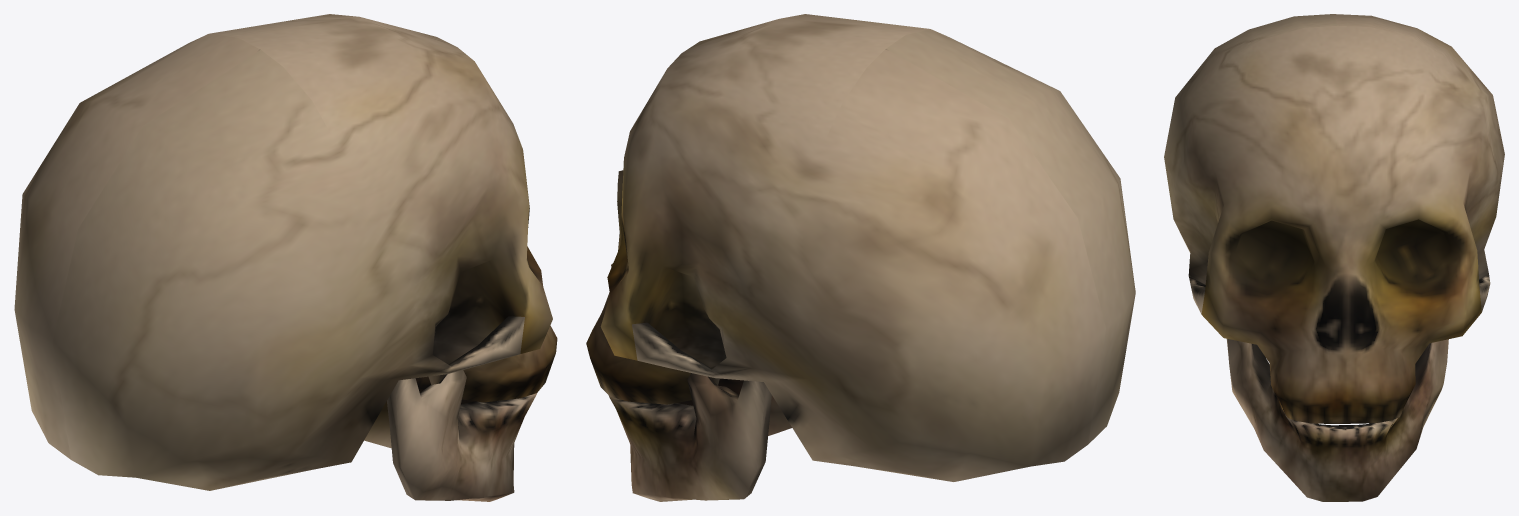
The model's file is Skull.FBX.
3 renders of one model, left to right at view 1: azimuth 30°, elevation 25°; view 2: azimuth 150°, elevation 25°; view 3: azimuth 270°, elevation 25°, orthographic. The views are drawn at different scales.
Visible parts, largest first — view 1: skull_91; view 2: skull_91; view 3: skull_91.
Part boxes in pixels (x1,y1,x2,y2): skull_91: (14, 14, 557, 501); skull_91: (586, 14, 1135, 501); skull_91: (1164, 14, 1504, 501).
Bounding box in the file's own units: 20.1 × 15.14 × 18.94.
